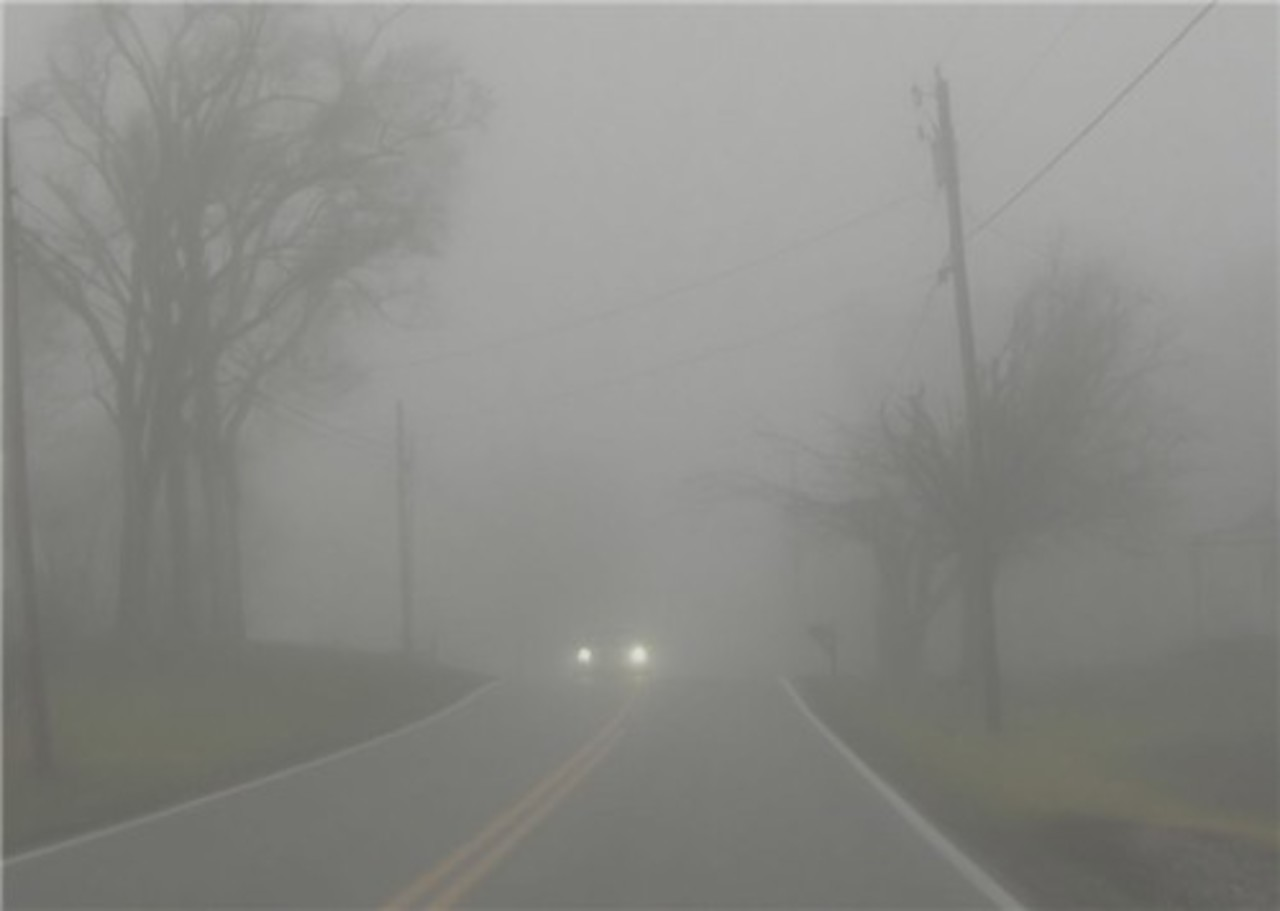car: (574, 613, 650, 682)
